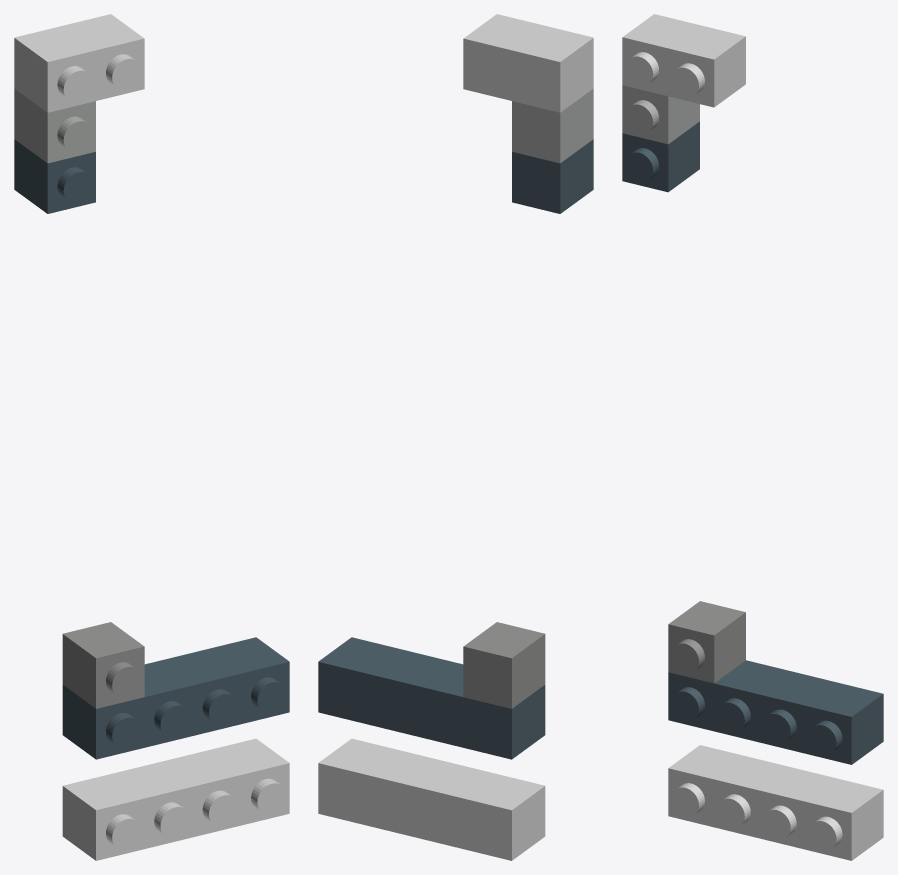
File: current.glb
3 views of the same model, side by side, from view 1: azimuth 30°, elevation 25°; view 2: azimuth 150°, elevation 25°; view 3: azimuth 330°, elevation 25° (orthographic). The views are drawn at different scales.
Parts seen in each view (by area): view 1: world; view 2: world; view 3: world.
Part boxes in pixels (<box>): world: <box>14,14,289,860</box>; world: <box>318,14,593,860</box>; world: <box>622,14,883,860</box>.
Size of the model in its own units: 40 by 128 by 11.4.
